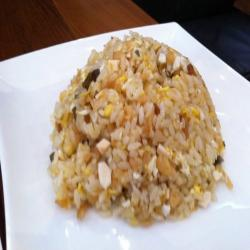rice: (43, 31, 245, 230)
